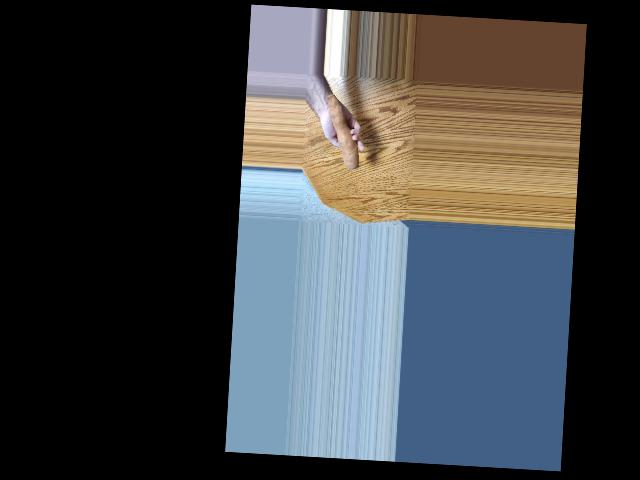sweet_potato: (322, 93, 358, 167)
